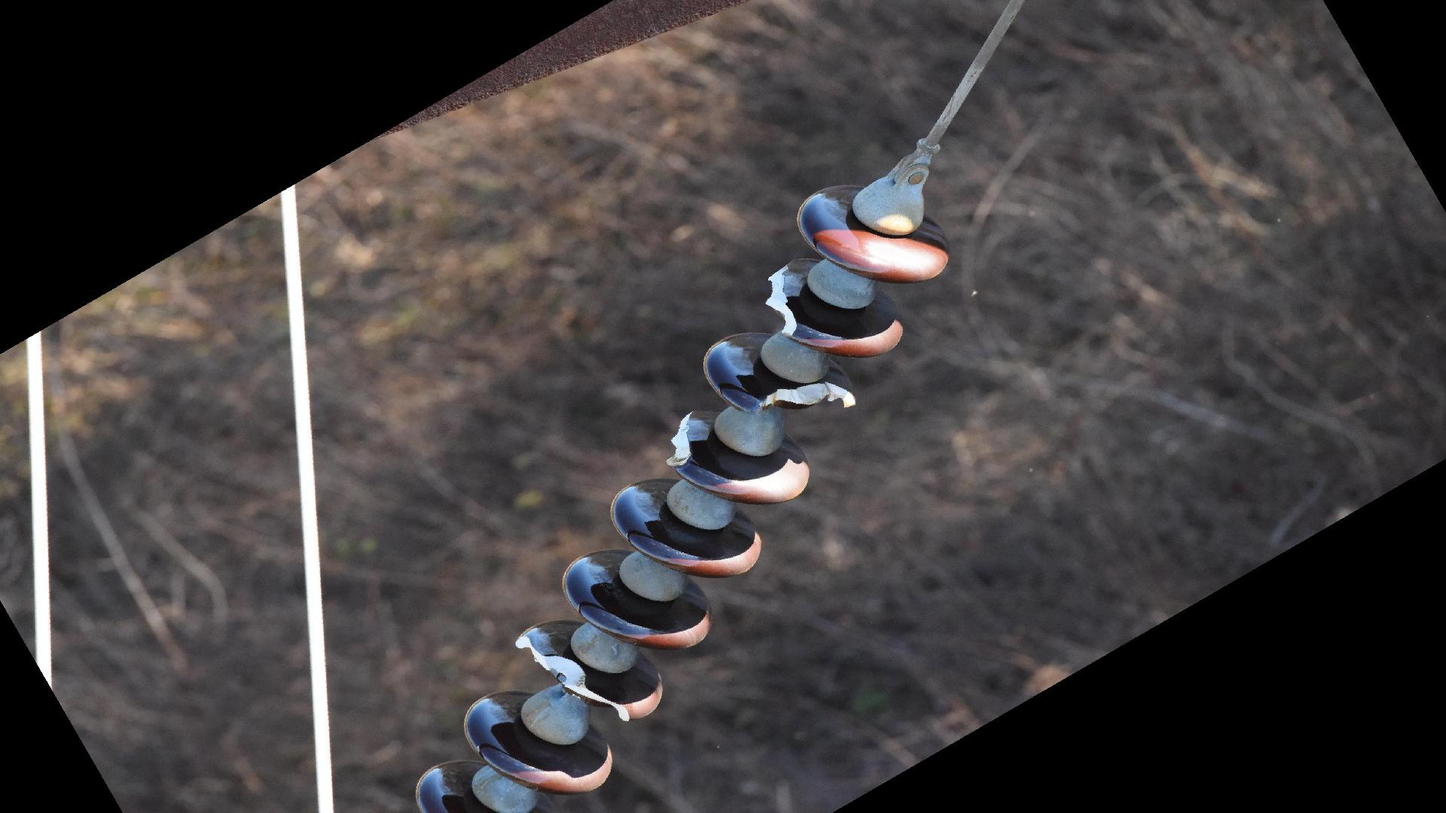insulator: (411, 178, 955, 813)
insulator_breakage: (511, 629, 636, 729), (738, 377, 861, 420), (761, 261, 804, 340), (664, 407, 701, 472)
